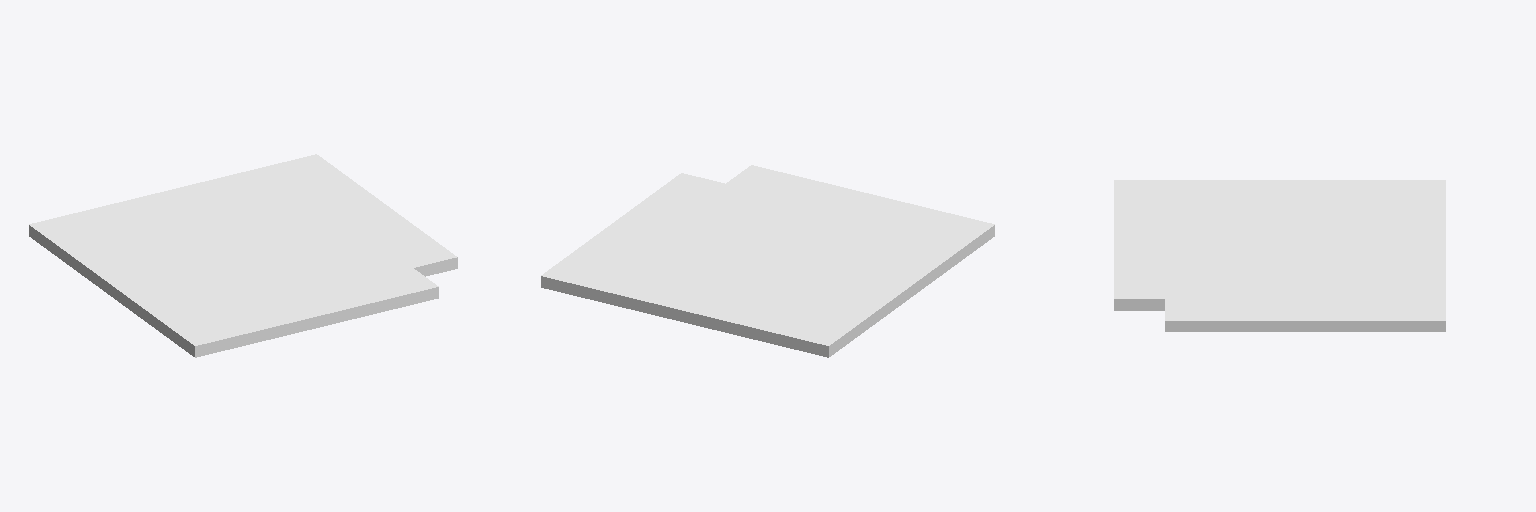
Rendered from RaodP4.obj.
3 renders of one model, left to right at view 1: azimuth 30°, elevation 25°; view 2: azimuth 150°, elevation 25°; view 3: azimuth 270°, elevation 25°, orthographic.
Visible parts, largest first — view 1: object 1; view 2: object 1; view 3: object 1.
Boxes of the visible parts, x1,y1,x2,y2 form: object 1: [29, 154, 457, 357]; object 1: [541, 165, 994, 357]; object 1: [1114, 180, 1445, 331].
Bounding box in the file's own units: 2.6 × 0.1 × 2.6.